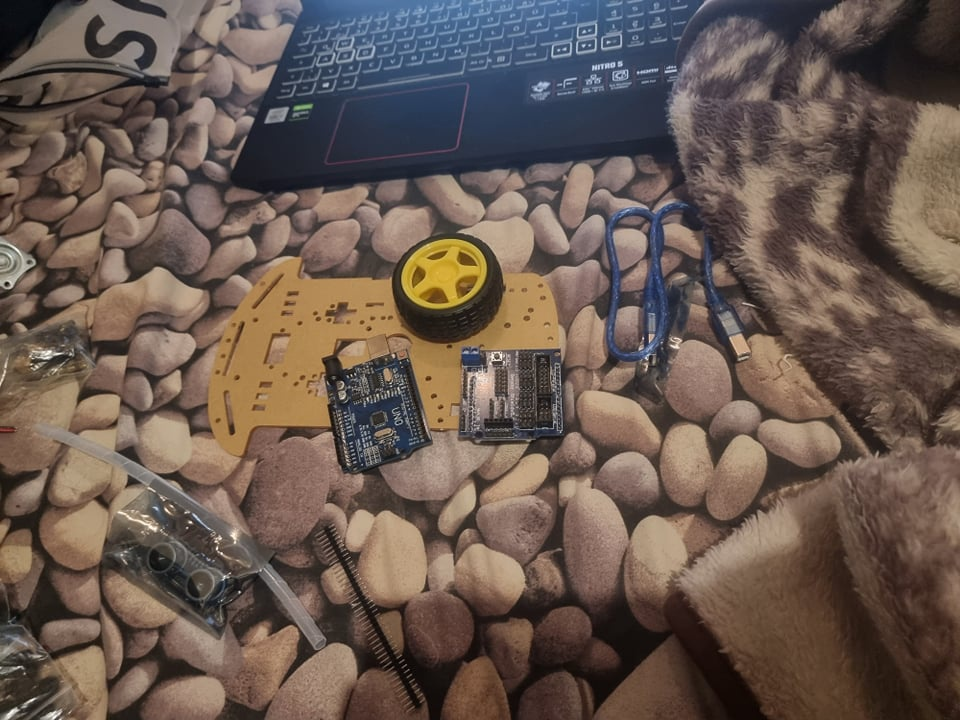5V EXPANSION: (319, 354, 433, 475), (459, 343, 564, 443)
SENSOR: (145, 536, 223, 609)
